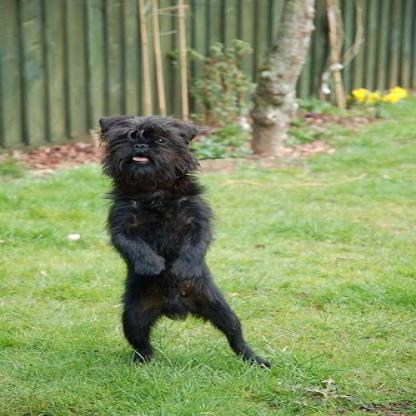affenpinscher: (90, 113, 272, 372)
